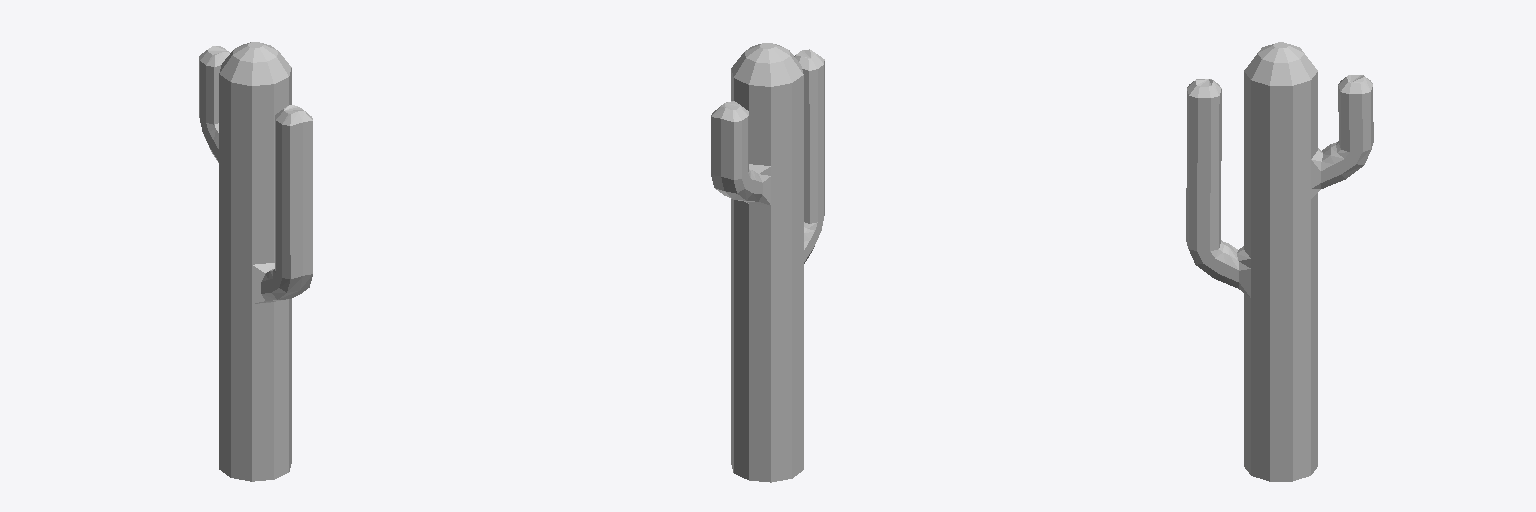
The model's file is cactus1.obj.
3 renders of one model, left to right at view 1: azimuth 30°, elevation 25°; view 2: azimuth 150°, elevation 25°; view 3: azimuth 270°, elevation 25°, orthographic.
Visible parts, largest first — view 1: Cylinder; view 2: Cylinder; view 3: Cylinder.
Boxes of the visible parts, box(x1,y1,x2,y2) form: Cylinder: box(199, 42, 312, 481); Cylinder: box(711, 43, 824, 482); Cylinder: box(1186, 42, 1373, 481).
Size of the model in its own units: 0.915 by 6.03 by 2.43.